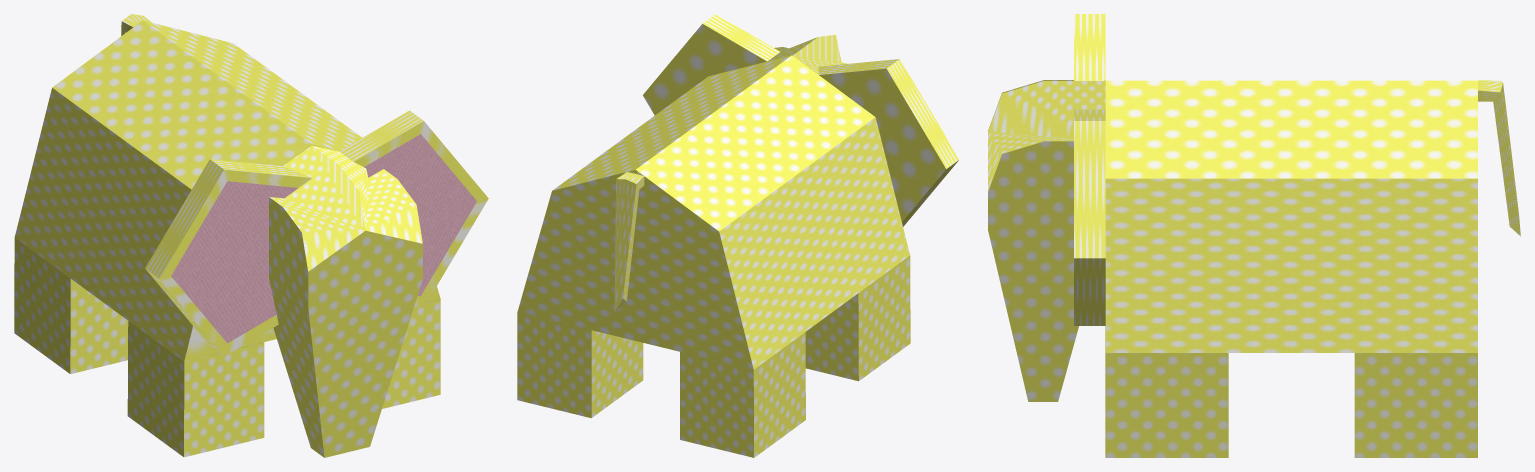
Rendered from Elephant_D.FBX.
3 renders of one model, left to right at view 1: azimuth 30°, elevation 25°; view 2: azimuth 150°, elevation 25°; view 3: azimuth 270°, elevation 25°, orthographic. The views are drawn at different scales.
Visible parts, largest first — view 1: Elephant; view 2: Elephant; view 3: Elephant.
Boxes of the visible parts, bbox=[...] form: Elephant: bbox=[14, 14, 488, 457]; Elephant: bbox=[517, 14, 959, 457]; Elephant: bbox=[988, 14, 1520, 457].
Bounding box in the file's own units: 67.47 × 57.23 × 86.1.
